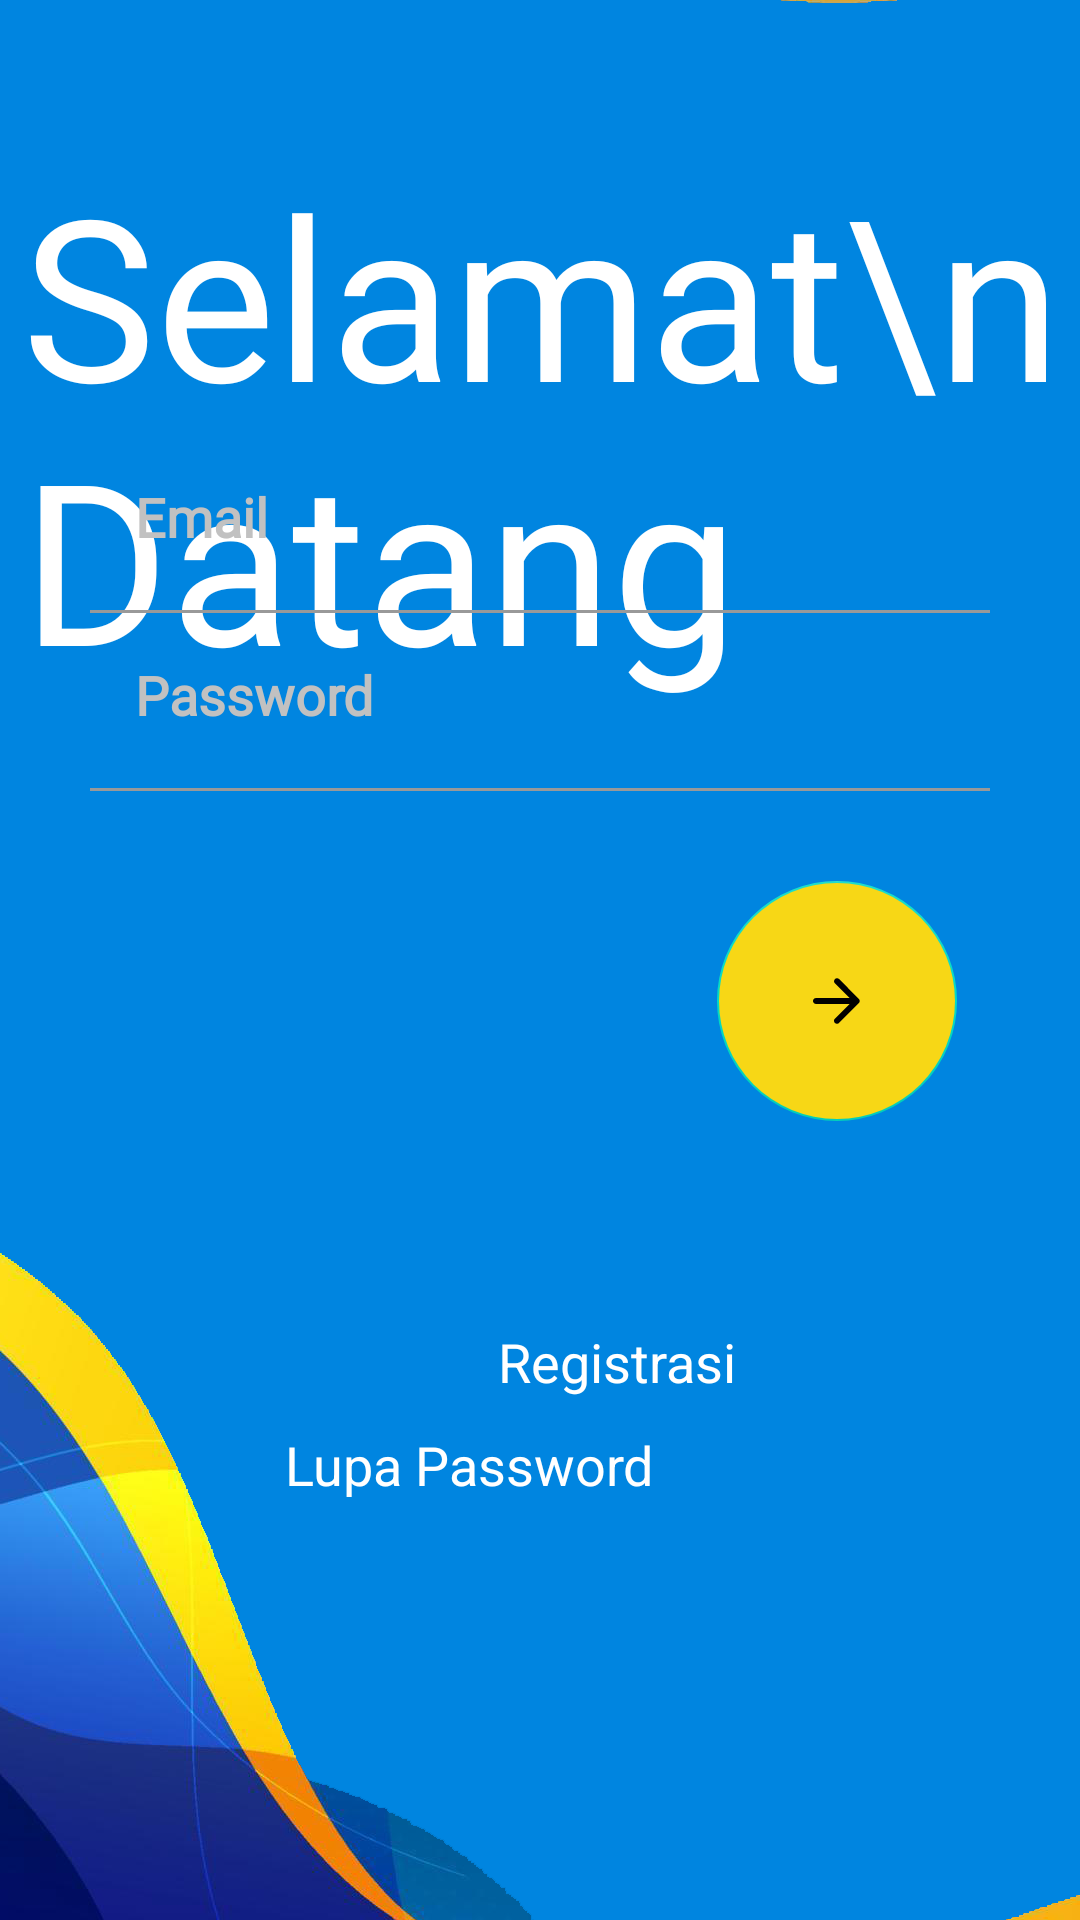

Named icons in this screenshot (1080 × 1920) and their bounding boxes, [x1, y1, x2, y2]:
arrow: [717, 881, 957, 1121]
